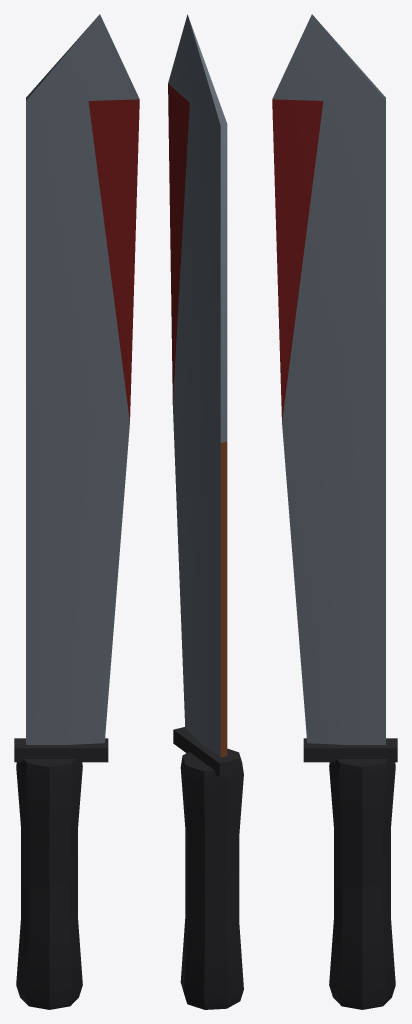
File: machete.glb
3 renders of one model, left to right at view 1: azimuth 90°, elevation 25°; view 2: azimuth 210°, elevation 25°; view 3: azimuth 270°, elevation 25°, orthographic.
Parts seen in each view (by area): view 1: Weapon; view 2: Weapon; view 3: Weapon.
Part boxes in pixels (x1,y1,x2,y2): Weapon: [14, 14, 139, 1009]; Weapon: [168, 14, 243, 1009]; Weapon: [272, 14, 397, 1009].
Bounding box in the file's own units: 0.034 × 0.553 × 0.064.
